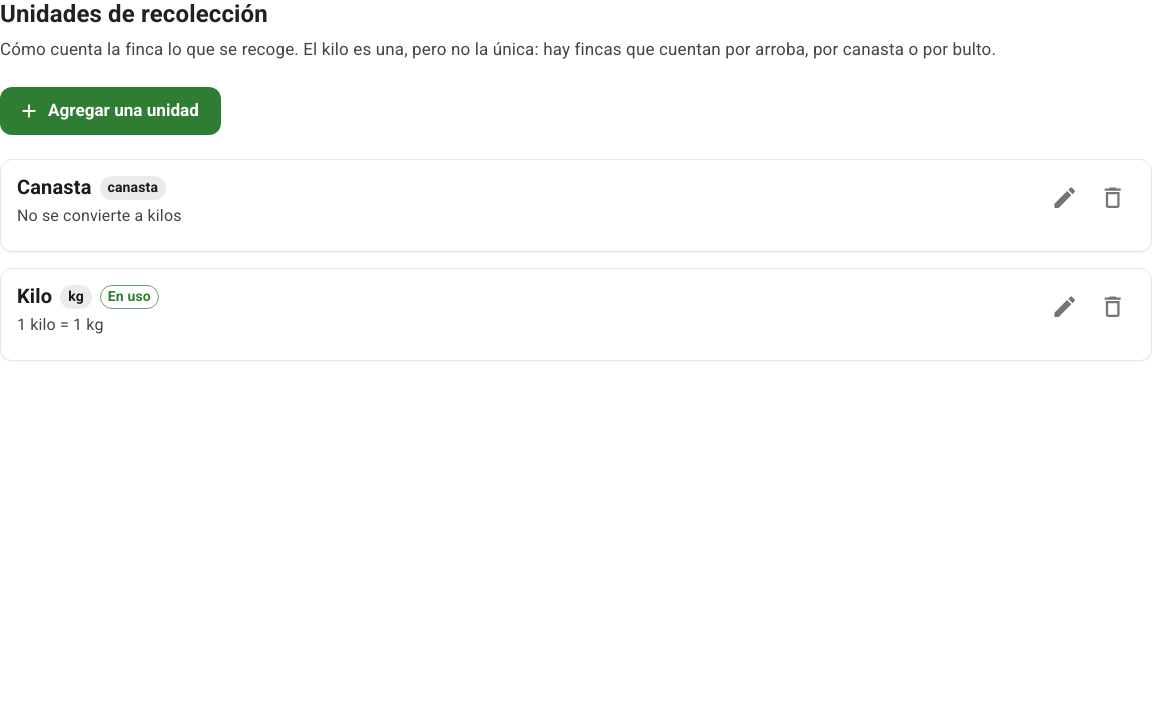
it: work units, the remaining paths › opens a unit with a kilo factor already written in
This screenshot has width=1152, height=720.
Step 1. Click the button named "Editar Kilo" → (1065, 307), box [1043,285,1087,329]
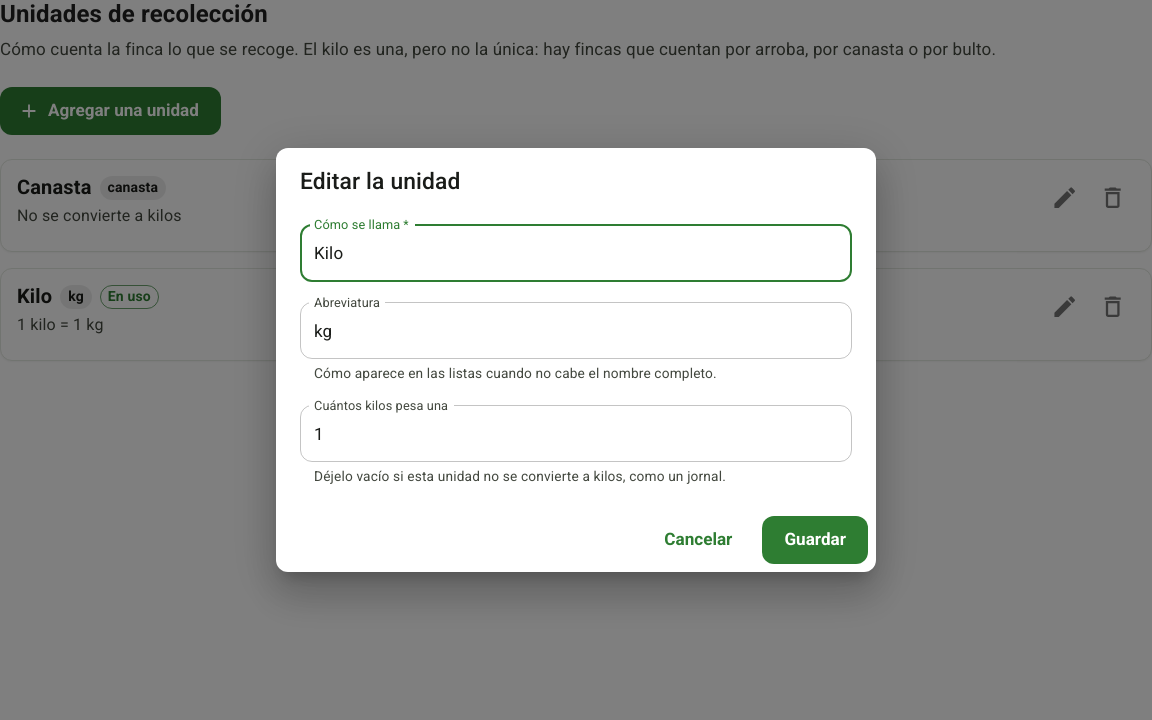
Check: the field showing "1" is shown, box [300,405,852,462]
